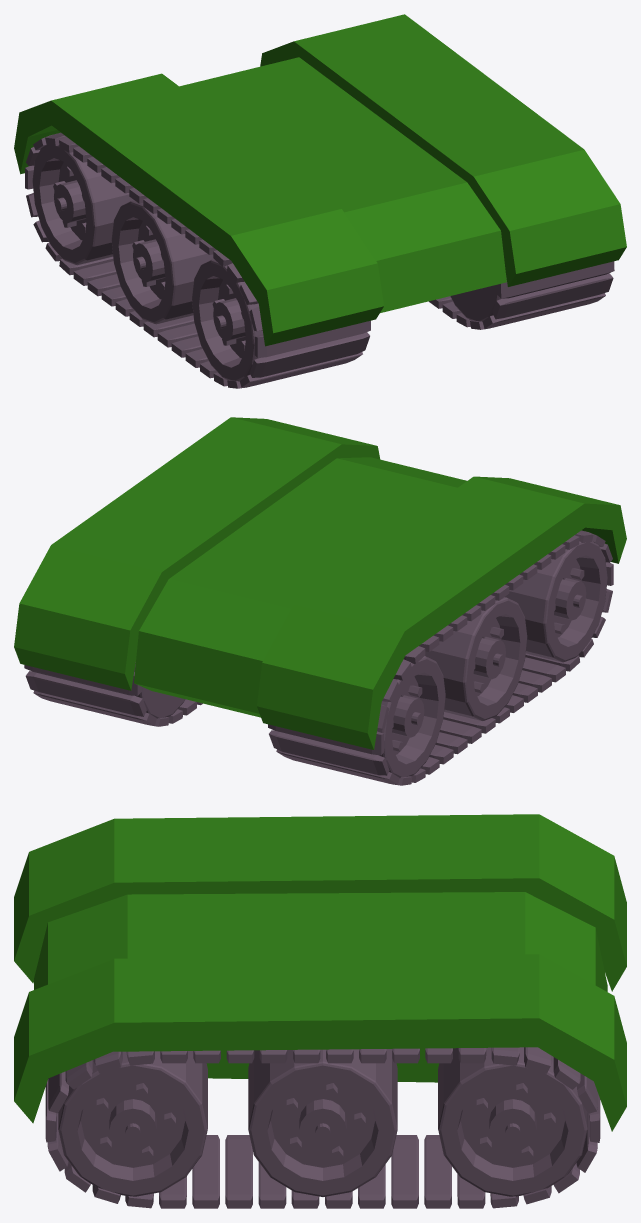
Rendered from minitank-base-processed-v2.fbx.
The picture shows the model from 3 angles, top to bottom: view 1: azimuth 30°, elevation 25°; view 2: azimuth 150°, elevation 25°; view 3: azimuth 270°, elevation 25°; orthographic projection. The views are drawn at different scales.
Visible parts, largest first — view 1: body; view 2: body; view 3: body.
Boxes of the visible parts, left/top/right/bottom form: body: left=14, top=14, right=626, bottom=388; body: left=14, top=417, right=626, bottom=785; body: left=14, top=814, right=626, bottom=1208.
Size of the model in its own units: 898 by 1110 by 381.
